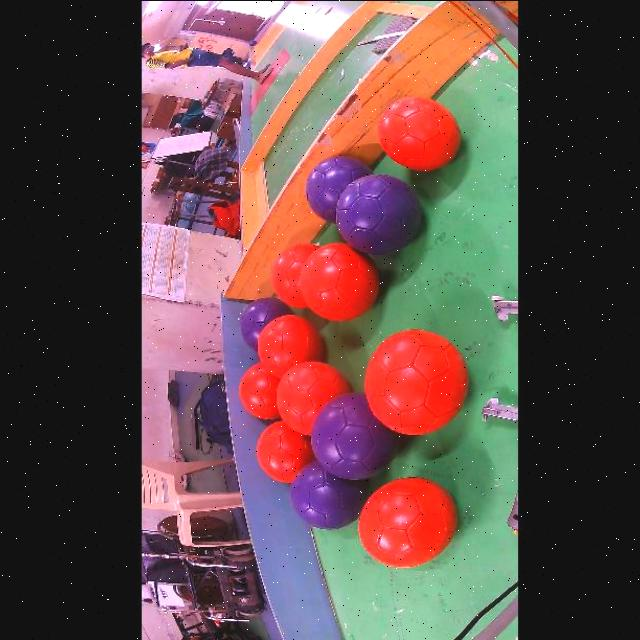P: (311, 392, 401, 479), (335, 173, 420, 254), (290, 460, 367, 529), (305, 155, 371, 222), (240, 298, 292, 350)
R: (364, 329, 467, 433), (358, 477, 457, 567), (299, 241, 379, 320), (377, 96, 460, 169), (275, 360, 349, 435), (256, 313, 322, 377), (256, 420, 313, 482), (270, 243, 317, 307), (239, 362, 279, 418)
